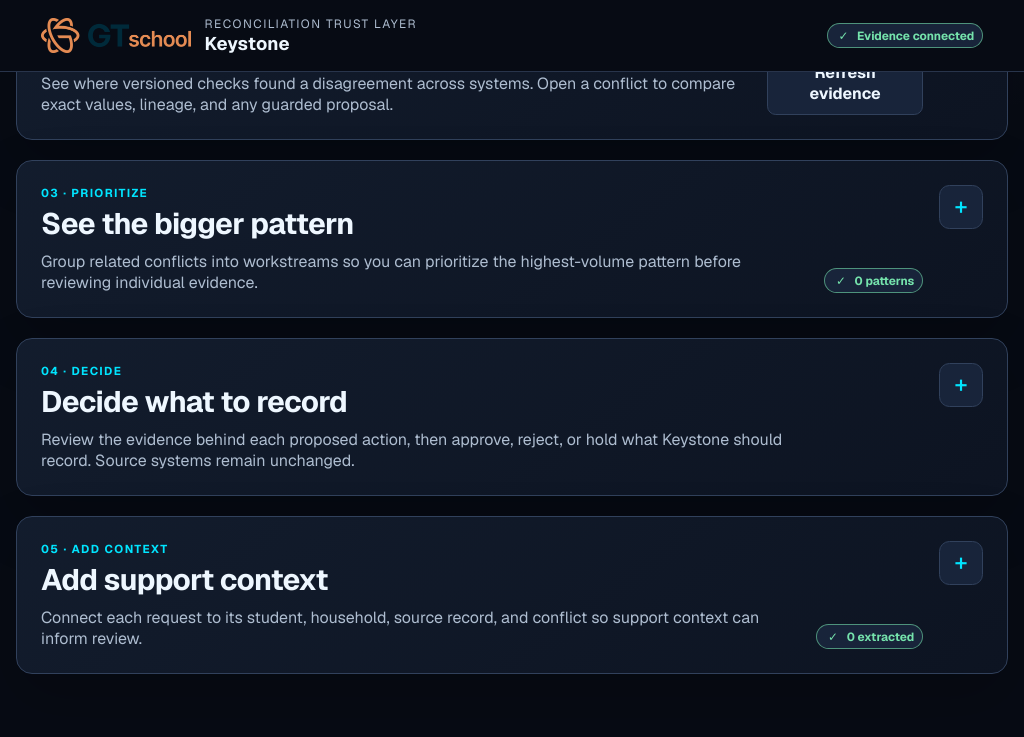
Test case: proposal queue interactions › renders a proposal error independently
The width and height of the screenshot is (1024, 737).
(page scrolled)
Click the button named "Expand Decide what to record". click: (961, 385)
box: [939,363,983,407]
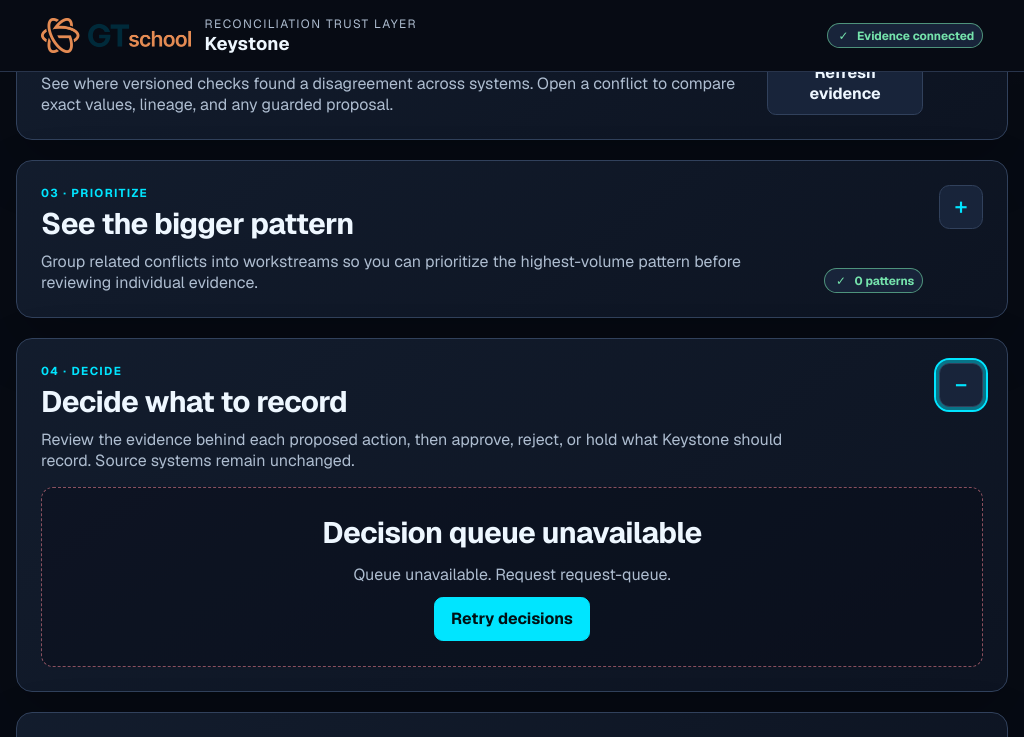
Check: the heading "Decision queue unavailable" is shown, box [322,512,702,552]
Check: the text "Queue unavailable. Request request-queue." is shown, box [353,564,671,585]
